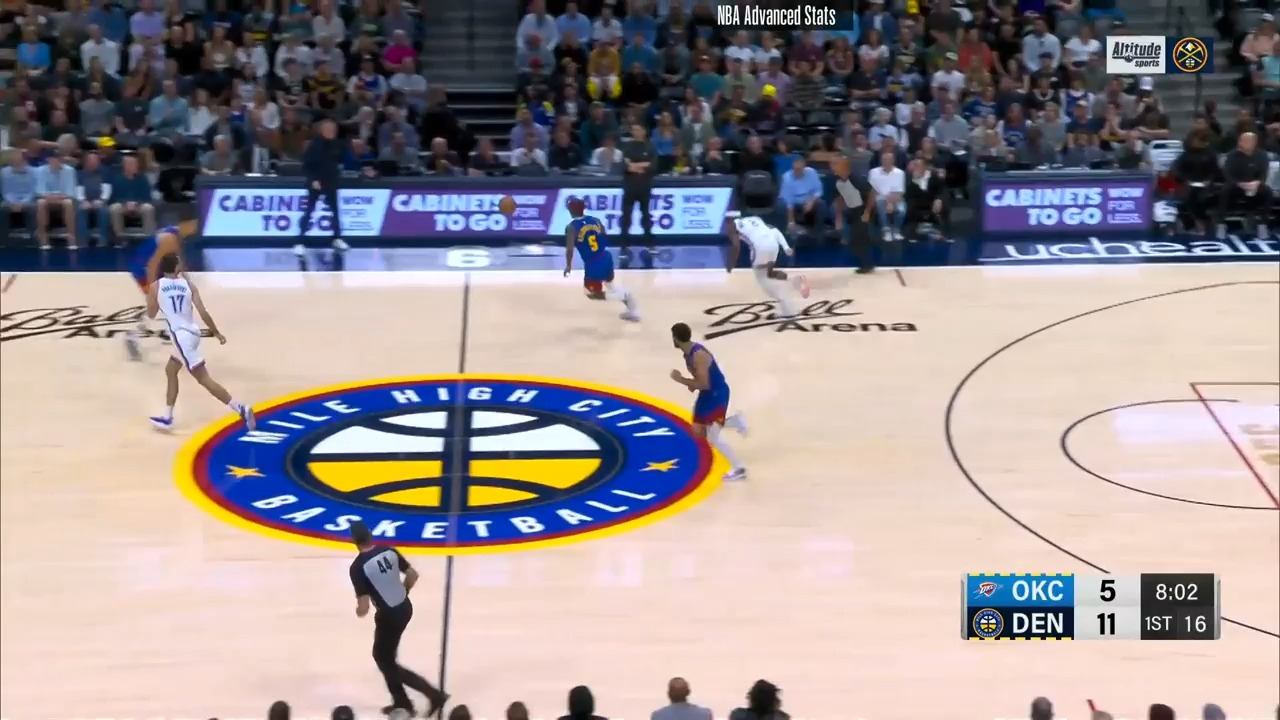player: (132, 252, 247, 439), (662, 320, 750, 492), (124, 202, 208, 362), (719, 194, 811, 329), (556, 191, 642, 325)
referee: (340, 516, 439, 720), (824, 150, 883, 280)
